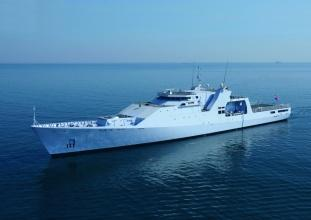warship: (31, 74, 293, 154)
